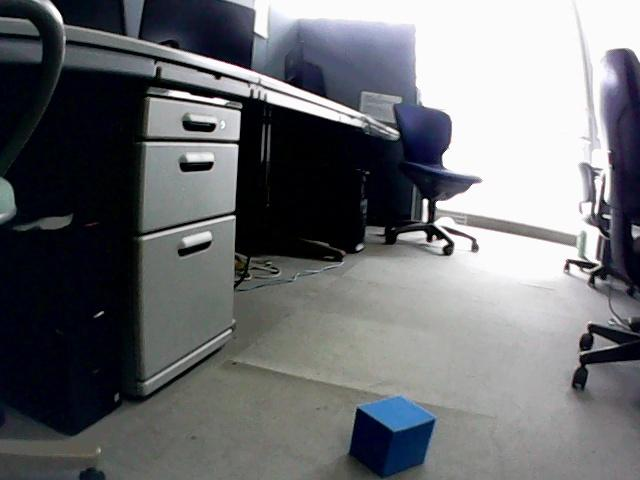blue_block: (350, 396, 436, 476)
